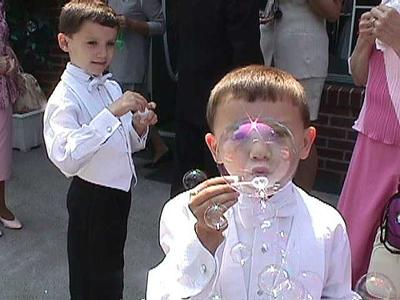person: (147, 65, 363, 300)
